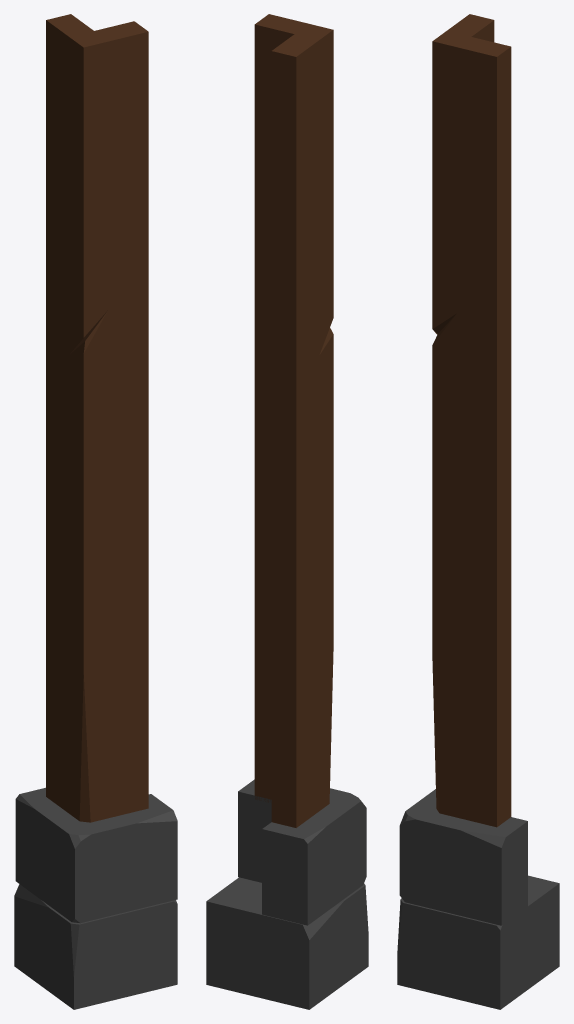
File: ChurchCorner_01.glb
The picture shows the model from 3 angles, left to right: view 1: azimuth 30°, elevation 25°; view 2: azimuth 150°, elevation 25°; view 3: azimuth 330°, elevation 25°; orthographic projection.
Visible parts, largest first — view 1: ChurchCorner_01_LOD0; view 2: ChurchCorner_01_LOD0; view 3: ChurchCorner_01_LOD0.
Boxes of the visible parts, bbox=[...] form: ChurchCorner_01_LOD0: bbox=[14, 14, 177, 1009]; ChurchCorner_01_LOD0: bbox=[206, 14, 368, 1009]; ChurchCorner_01_LOD0: bbox=[397, 14, 559, 1009].
Size of what is drawn, in the model's own units: 0.6503 by 5.64 by 0.6451.
1 material, 1 textured.
